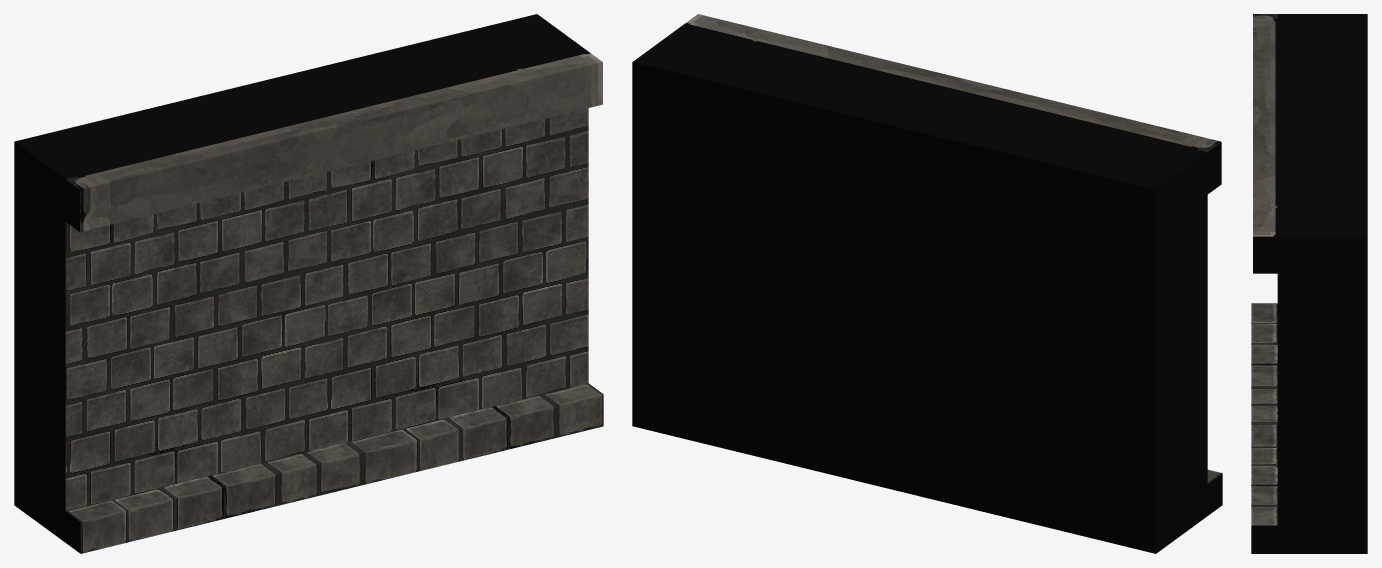
File: ModularWall01.fbx
The picture shows the model from 3 angles, left to right: view 1: azimuth 30°, elevation 25°; view 2: azimuth 150°, elevation 25°; view 3: azimuth 270°, elevation 25°; orthographic projection. The views are drawn at different scales.
Parts seen in each view (by area): view 1: Plane; view 2: Plane; view 3: Plane.
Boxes of the visible parts, left/top/right/bottom form: Plane: left=14, top=14, right=603, bottom=553; Plane: left=632, top=14, right=1222, bottom=553; Plane: left=1251, top=14, right=1367, bottom=553.
Size of the model in its own units: 3.01 by 2 by 0.6633.
1 material, 1 textured.
